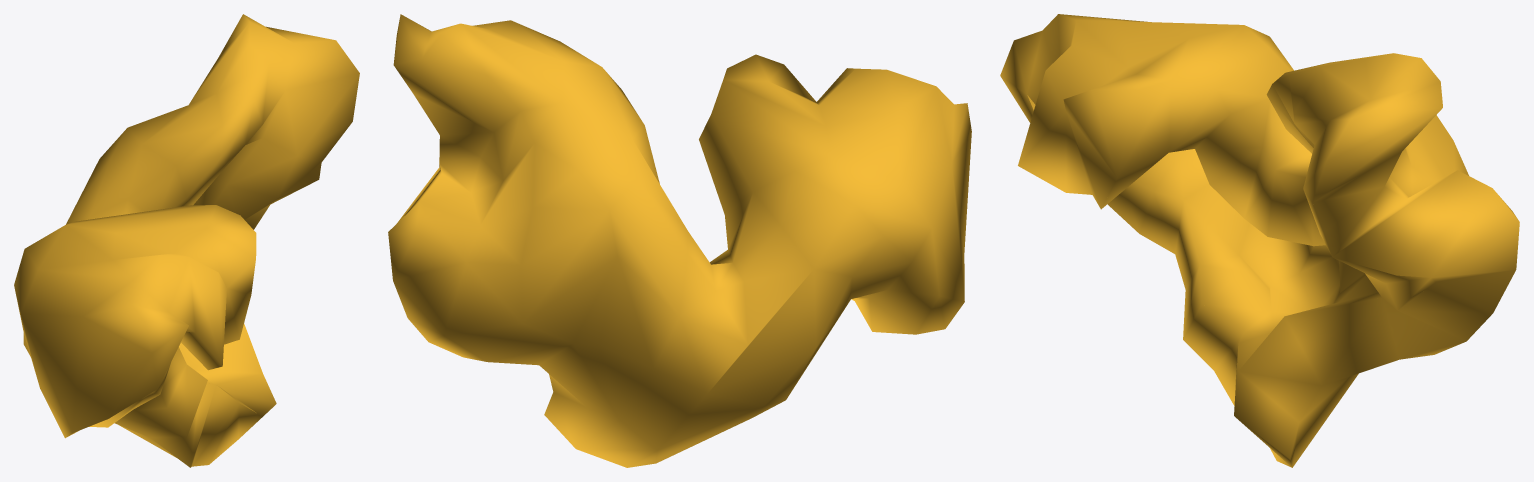
File: nervoso-lat-fis-post-l.glb
The picture shows the model from 3 angles, left to right: view 1: azimuth 30°, elevation 25°; view 2: azimuth 150°, elevation 25°; view 3: azimuth 270°, elevation 25°; orthographic projection. The views are drawn at different scales.
Parts seen in each view (by area): view 1: Lat_Fis-post.l; view 2: Lat_Fis-post.l; view 3: Lat_Fis-post.l.
Part boxes in pixels (x1,y1,x2,y2): Lat_Fis-post.l: [14, 14, 359, 467]; Lat_Fis-post.l: [388, 14, 971, 467]; Lat_Fis-post.l: [1000, 14, 1519, 467].
Bounding box in the file's own units: 0.0246 × 0.023 × 0.0236.
